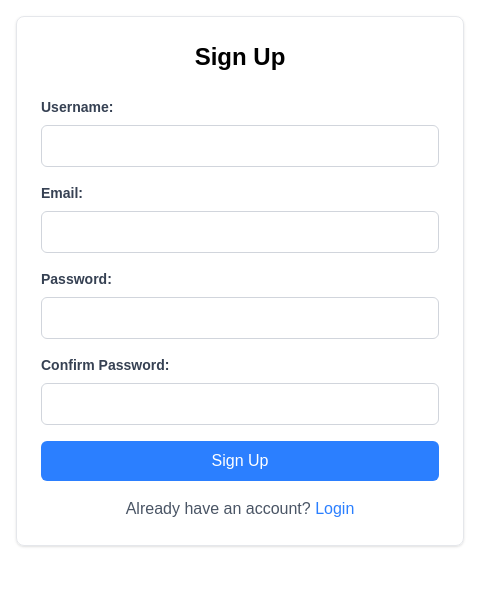
Signup Component › displays error when passwords do not match
Type "testuser" into the field below "Username:" at (240, 146), box [41,125,439,167]
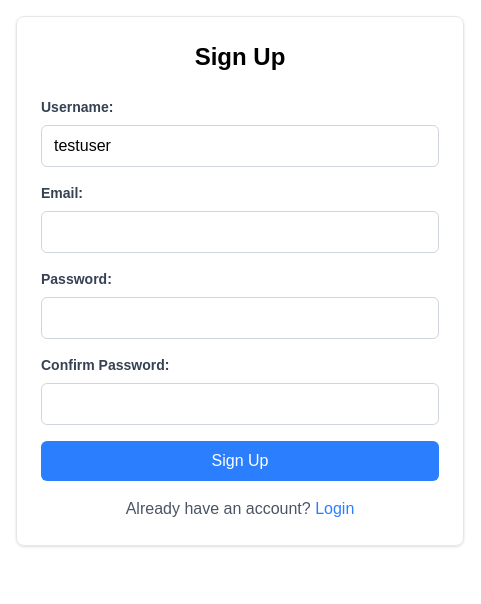
Type "test@example.com" into the field below "Email:" at (240, 232), box [41,211,439,253]
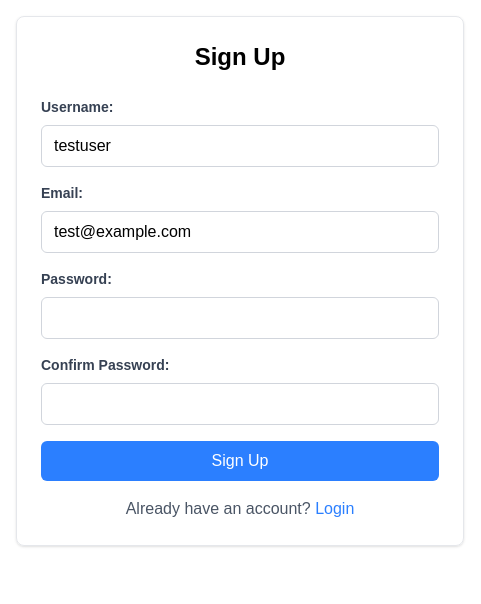
Type "testpass" into the 1st password field at (240, 318), box [41,297,439,339]
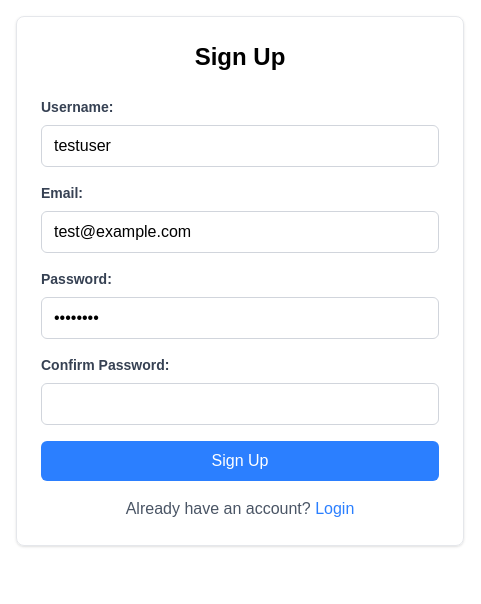
Type "differentpass" into the password field below "Confirm Password:" at (240, 404), box [41,383,439,425]
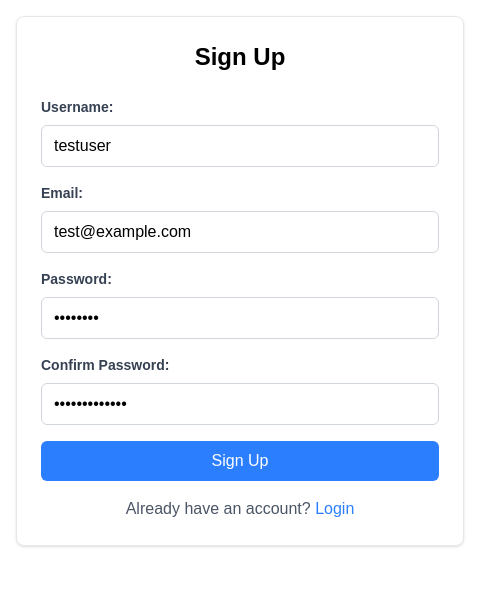
Click the button "Sign Up" at (240, 461), box [41,441,439,481]
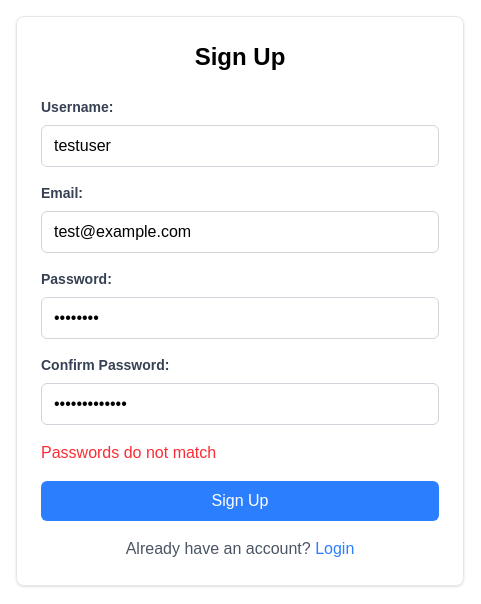
Expected: the text "Passwords do not match" is shown, [41,444,216,461]
